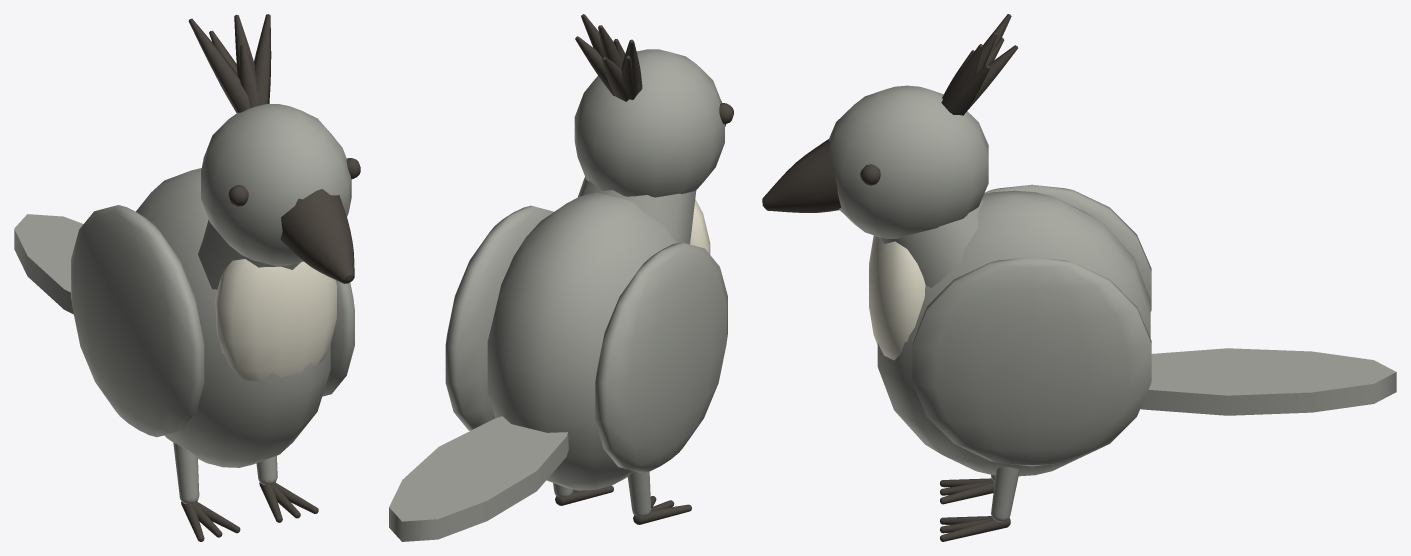
The model's file is rainforest-and-jungle-fauna-harpy-eagle-7077a5c0__21690.glb.
The picture shows the model from 3 angles, left to right: view 1: azimuth 30°, elevation 25°; view 2: azimuth 150°, elevation 25°; view 3: azimuth 270°, elevation 25°; orthographic projection.
Visible parts, largest first — view 1: harpy-eagle; view 2: harpy-eagle; view 3: harpy-eagle.
Boxes of the visible parts, box(x1,y1,x2,y2) form: harpy-eagle: box(14, 14, 360, 541); harpy-eagle: box(389, 14, 733, 541); harpy-eagle: box(762, 14, 1396, 541).
Bounding box in the file's own units: 0.345 × 0.8001 × 0.95.
